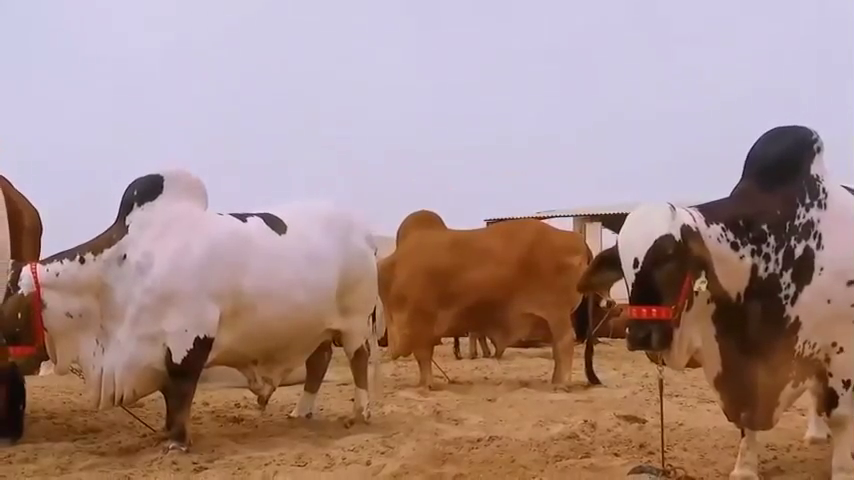bo: (2, 164, 384, 463), (581, 115, 854, 473), (362, 199, 594, 396)
